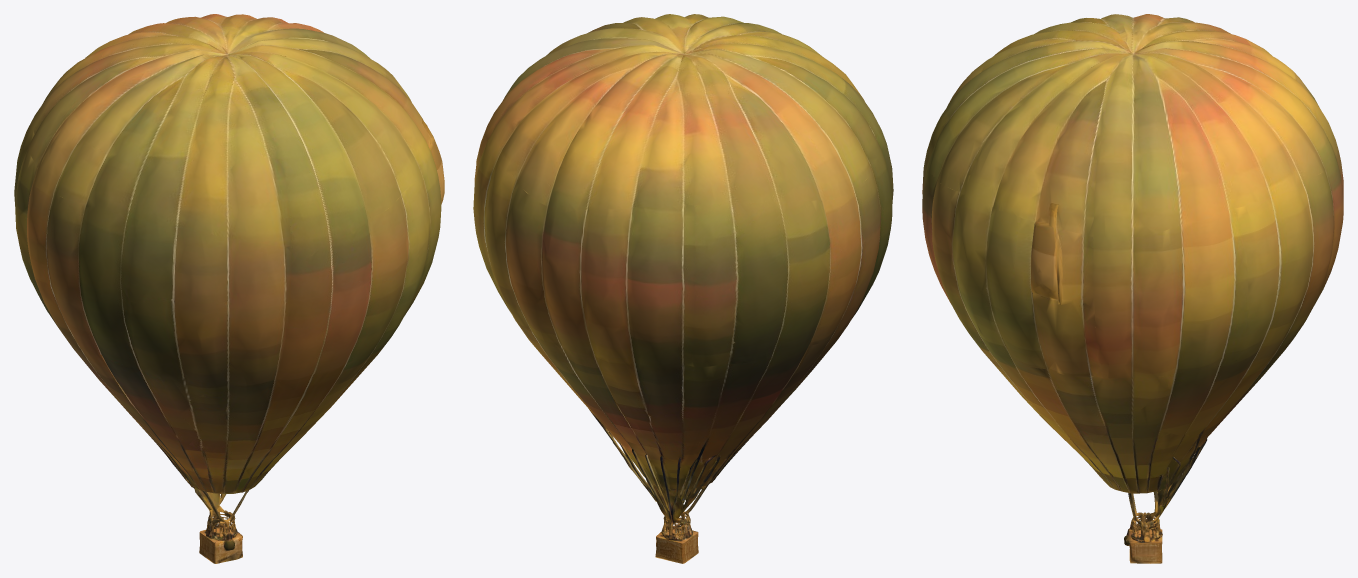
Rendered from balloon.glb.
The picture shows the model from 3 angles, left to right: view 1: azimuth 30°, elevation 25°; view 2: azimuth 150°, elevation 25°; view 3: azimuth 270°, elevation 25°; orthographic projection.
Visible parts, largest first — view 1: prop; view 2: prop; view 3: prop.
Part boxes in pixels (x1,y1,x2,y2): prop: (14, 14, 444, 563); prop: (473, 14, 893, 563); prop: (922, 14, 1343, 563).
Size of the model in its own units: 20.19 by 26.98 by 20.13.
Materials: 1 (1 with a texture image).
